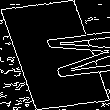M_W: (5, 27, 105, 83)
